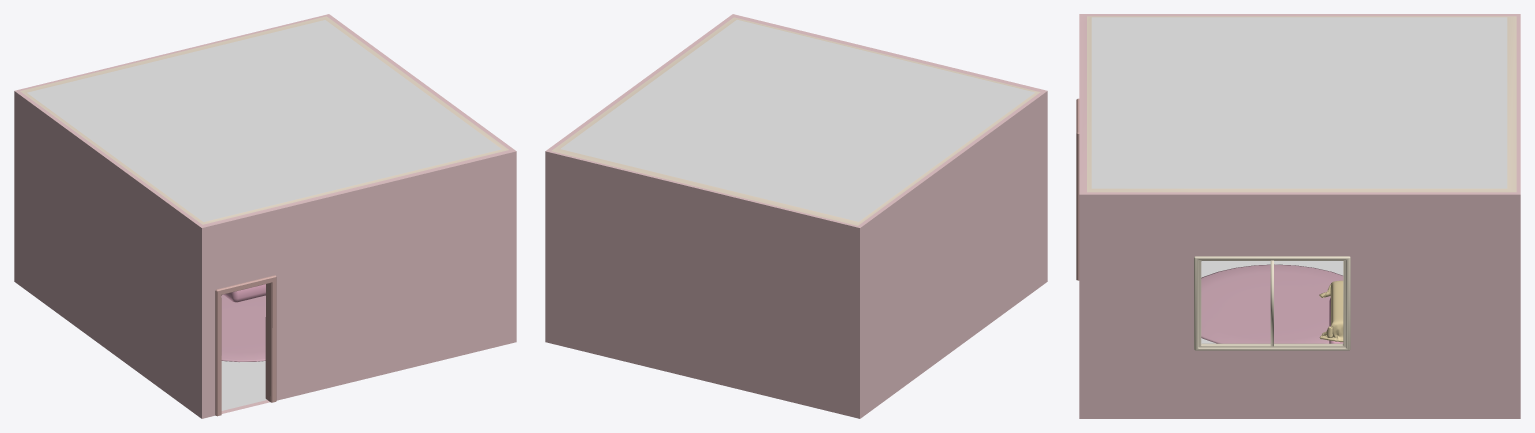
Rendered from room_frame.fbx.
3 renders of one model, left to right at view 1: azimuth 30°, elevation 25°; view 2: azimuth 150°, elevation 25°; view 3: azimuth 270°, elevation 25°, orthographic. The views are drawn at different scales.
Visible parts, largest first — view 1: Cube.083, rug, Plane.008; view 2: Cube.083; view 3: Cube.083, rug, window, Plane.006, Plane.008.
Part boxes in pixels (x1,y1,x2,y2): Cube.083: [14, 14, 516, 418]; rug: [221, 294, 265, 362]; Plane.008: [215, 275, 276, 416]; Cube.083: [545, 14, 1047, 418]; Cube.083: [1079, 14, 1520, 418]; rug: [1201, 264, 1343, 343]; window: [1194, 256, 1350, 350]; Plane.006: [1319, 280, 1343, 342]; Plane.008: [1076, 98, 1079, 280].
Size of the model in its own units: 7021 by 4056 by 7249.
